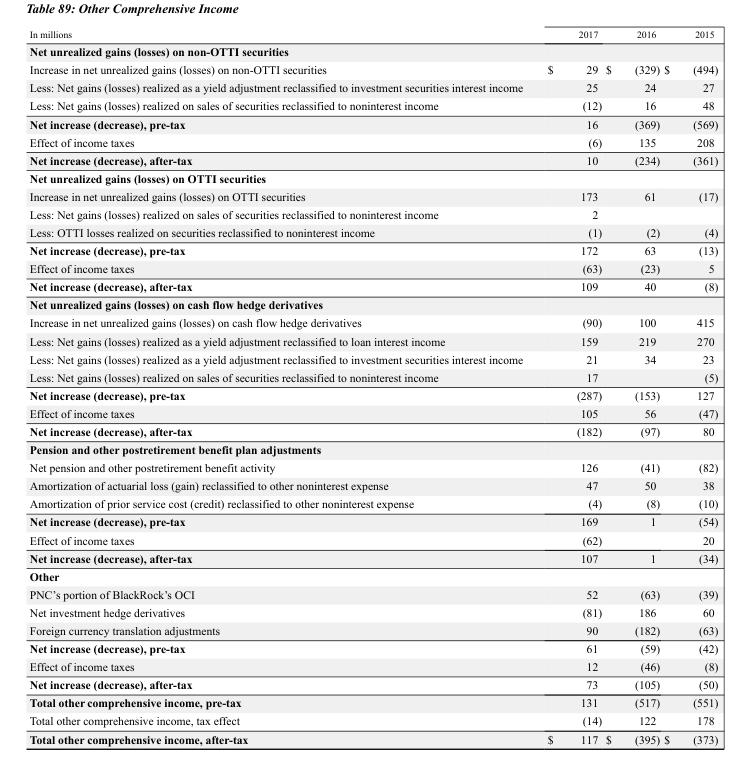table: (28, 28, 717, 745)
table column: (28, 28, 534, 745), (534, 28, 603, 745), (603, 28, 661, 745), (661, 28, 717, 745)
table column header: (28, 28, 717, 42)
table projected row header: (28, 42, 717, 60), (28, 168, 717, 186), (28, 295, 717, 313), (28, 440, 717, 458), (28, 566, 717, 584)
table row: (28, 204, 717, 223), (28, 403, 717, 422), (28, 602, 717, 621), (28, 42, 717, 60), (28, 60, 717, 78), (28, 78, 717, 96), (28, 96, 717, 114), (28, 114, 717, 132), (28, 132, 717, 150), (28, 150, 717, 168), (28, 168, 717, 186), (28, 186, 717, 204), (28, 223, 717, 241), (28, 241, 717, 259), (28, 259, 717, 277), (28, 277, 717, 295), (28, 295, 717, 313), (28, 313, 717, 331), (28, 331, 717, 349), (28, 349, 717, 367), (28, 367, 717, 385), (28, 385, 717, 403), (28, 422, 717, 440), (28, 440, 717, 458), (28, 458, 717, 476), (28, 476, 717, 494), (28, 494, 717, 512), (28, 512, 717, 530), (28, 530, 717, 548), (28, 548, 717, 566), (28, 566, 717, 584), (28, 584, 717, 602), (28, 621, 717, 639), (28, 639, 717, 657), (28, 657, 717, 675), (28, 675, 717, 693), (28, 693, 717, 711), (28, 711, 717, 729), (28, 729, 717, 745), (28, 28, 717, 42)
